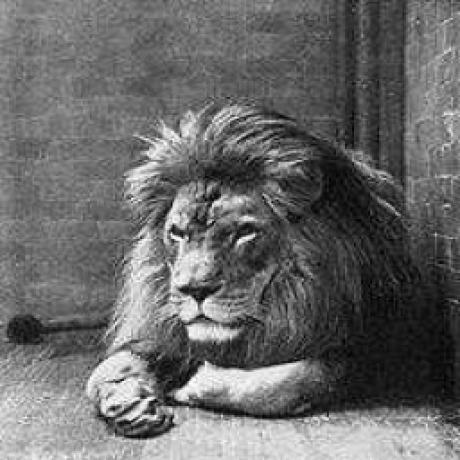Lion: (89, 93, 406, 442)
